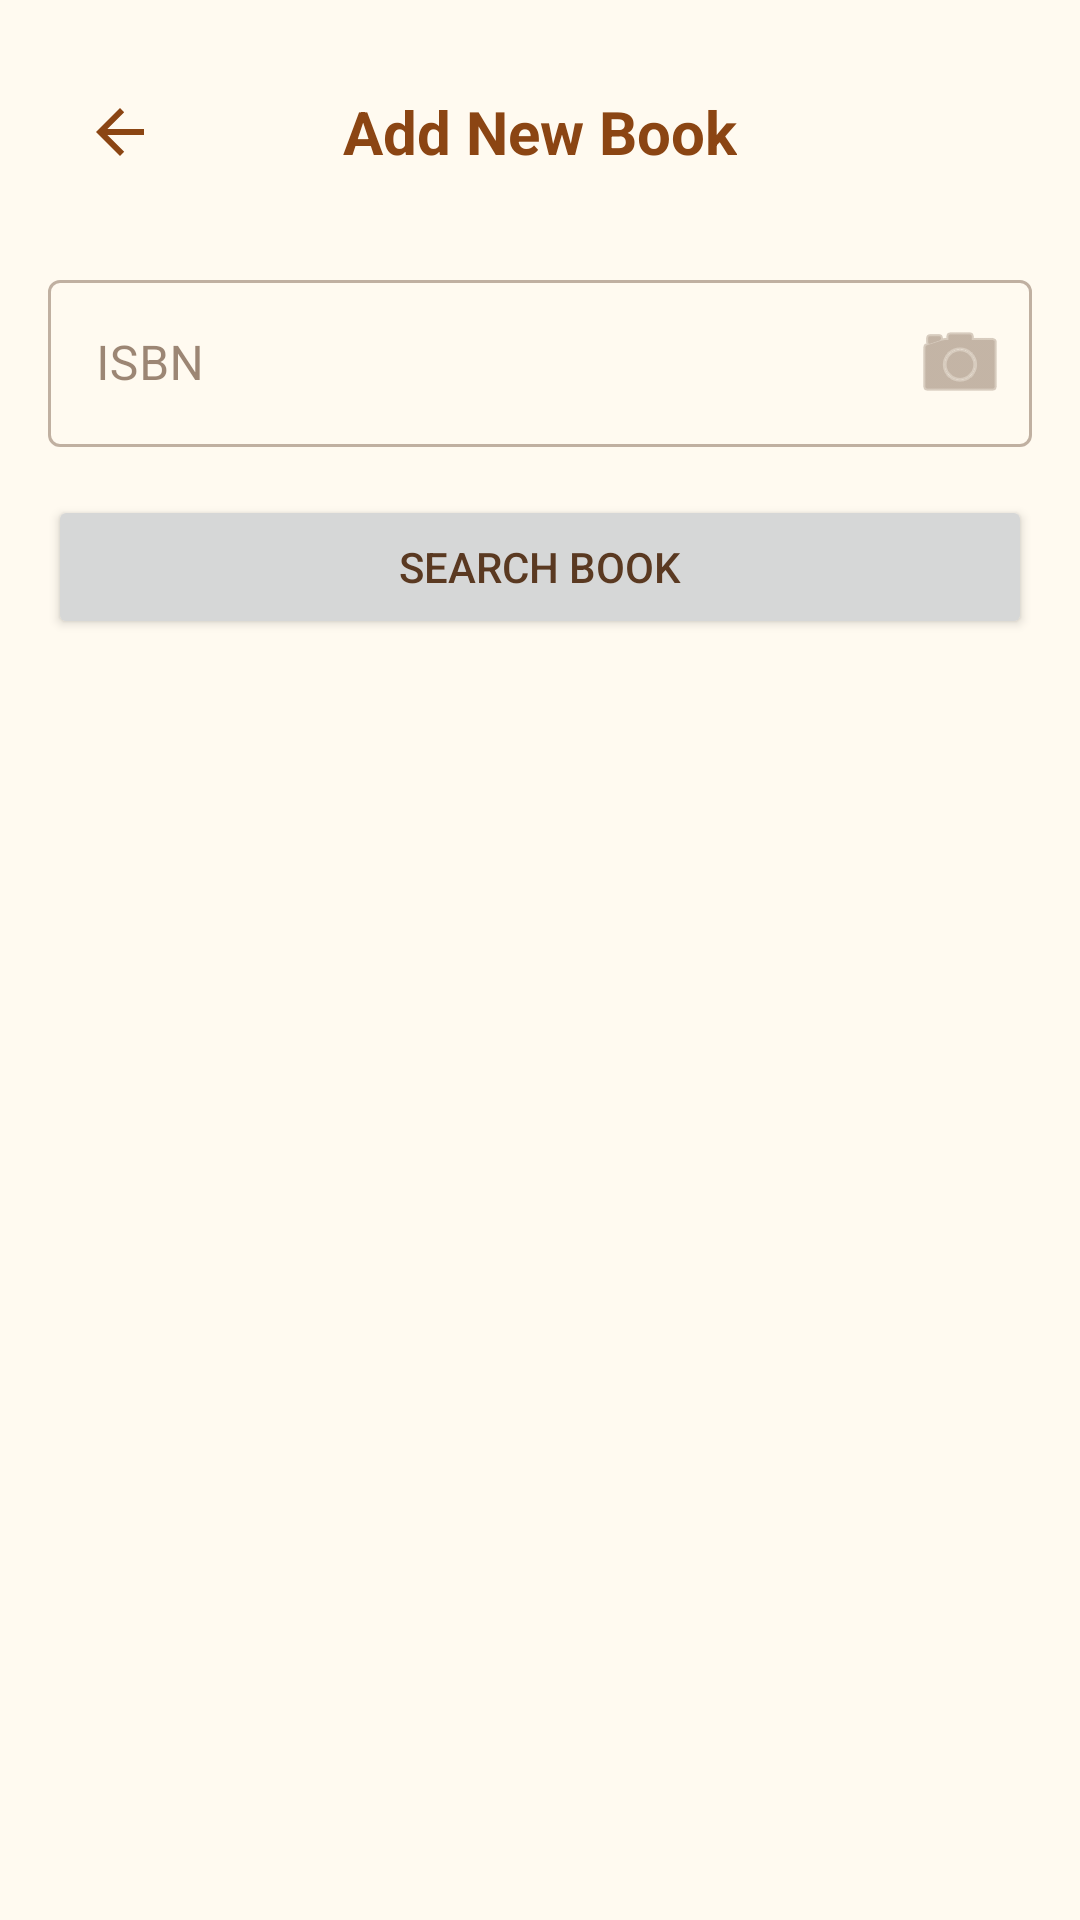

Named icons in this screenshot (1080px×1920px) and their centers, point (x, y):
ab back: point (120, 132)
